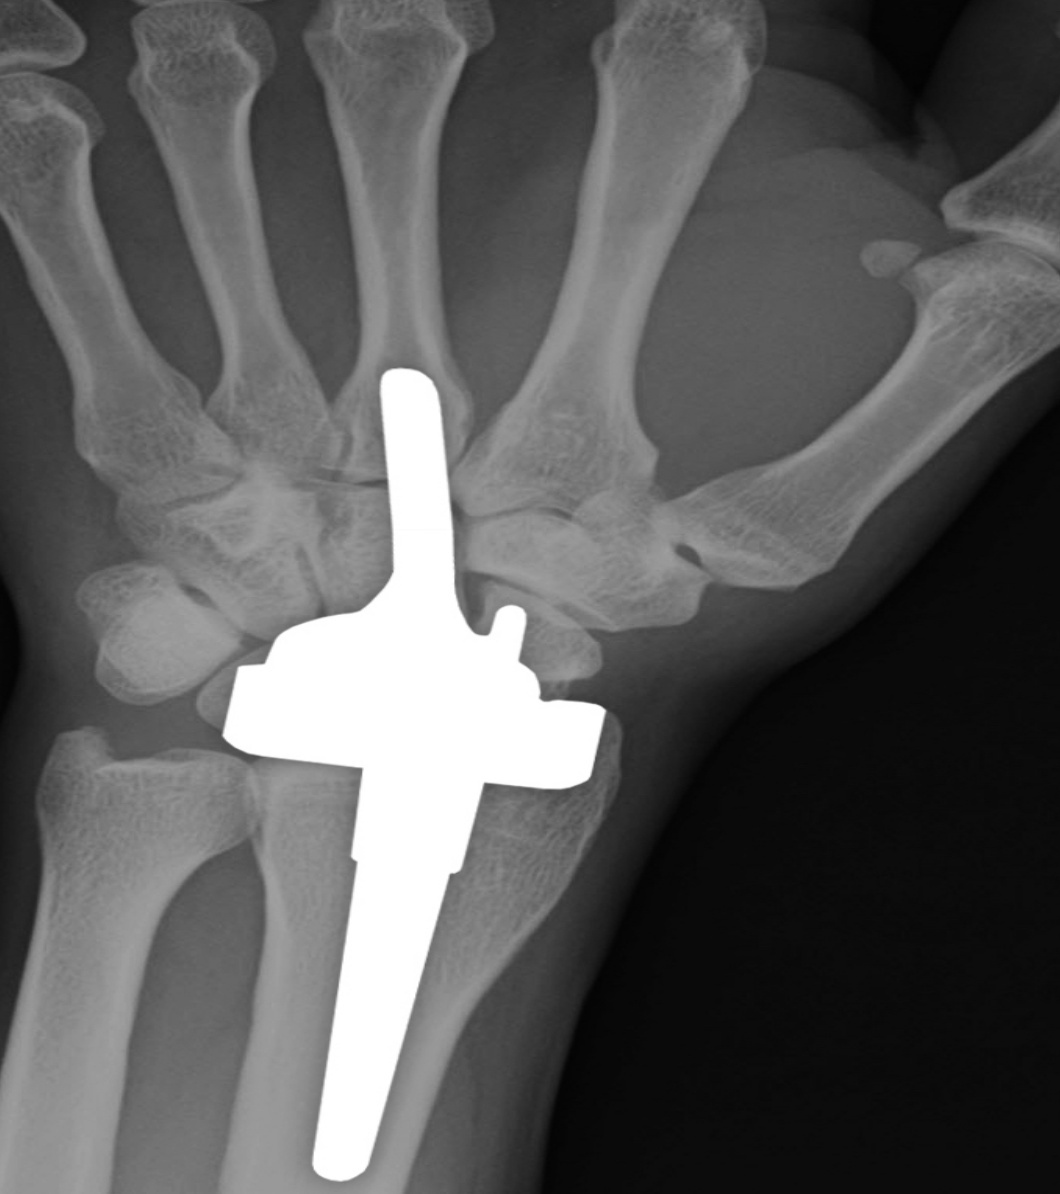Wrist-Biax-DePuuy: (207, 367, 619, 1194)
